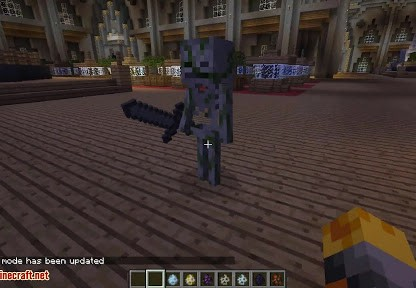skeleton: (171, 33, 237, 115)
